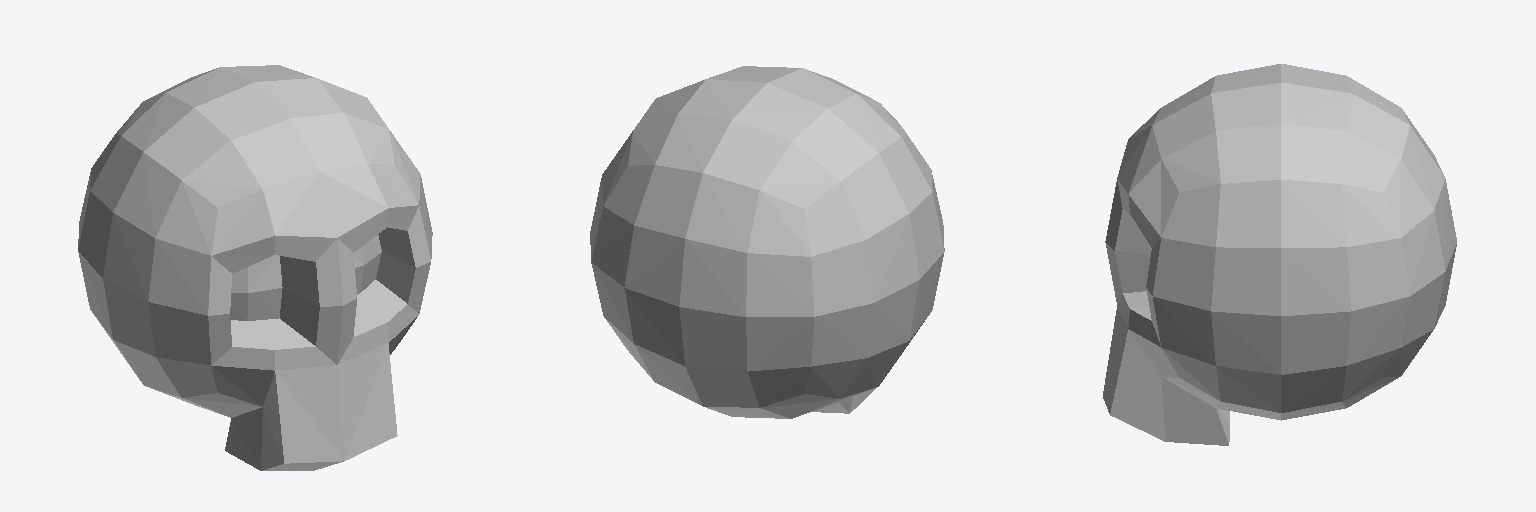
File: Crane.obj
3 renders of one model, left to right at view 1: azimuth 30°, elevation 25°; view 2: azimuth 150°, elevation 25°; view 3: azimuth 270°, elevation 25°, orthographic.
Parts seen in each view (by area): view 1: Crane; view 2: Crane; view 3: Crane.
Part boxes in pixels (x1,y1,x2,y2): Crane: (78,65,432,470); Crane: (590,66,944,418); Crane: (1103,64,1456,445).
Bounding box in the file's own units: 41.64 × 45.28 × 41.96.